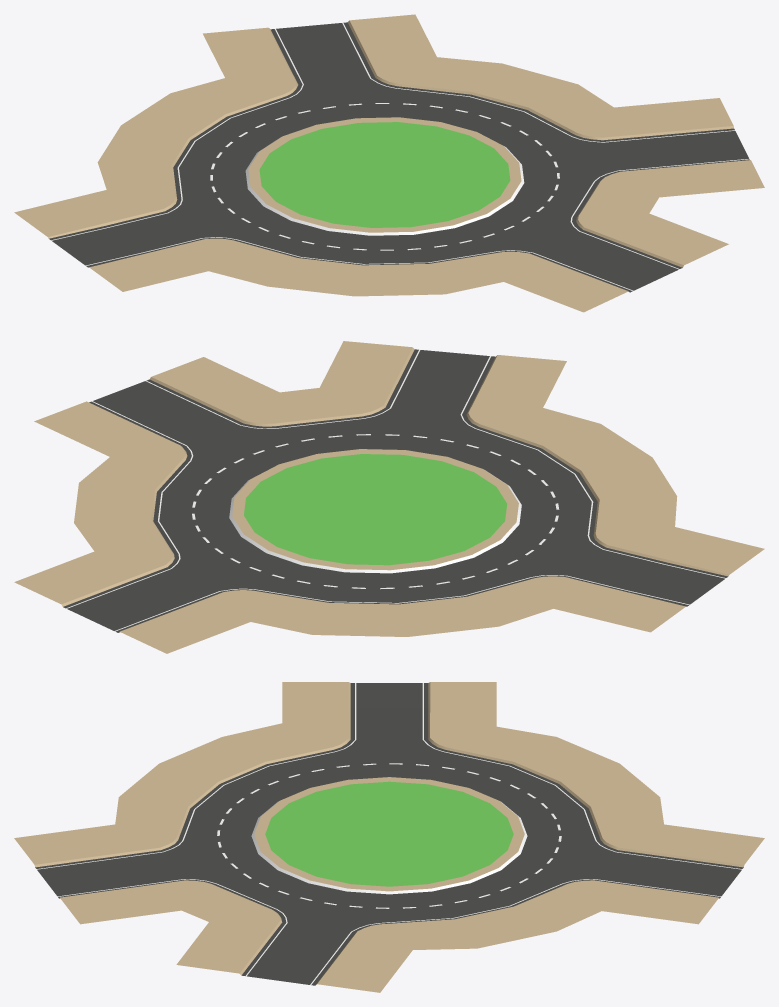
Rendered from traffic_roundabout.fbx.
The picture shows the model from 3 angles, top to bottom: view 1: azimuth 30°, elevation 25°; view 2: azimuth 150°, elevation 25°; view 3: azimuth 270°, elevation 25°; orthographic projection. The views are drawn at different scales.
Visible parts, largest first — view 1: traffic_roundabout; view 2: traffic_roundabout; view 3: traffic_roundabout.
Boxes of the visible parts, x1,y1,x2,y2 form: traffic_roundabout: (14, 14, 764, 312); traffic_roundabout: (14, 341, 764, 653); traffic_roundabout: (14, 682, 764, 992).
Bounding box in the file's own units: 5750 × 15.64 × 5870.
